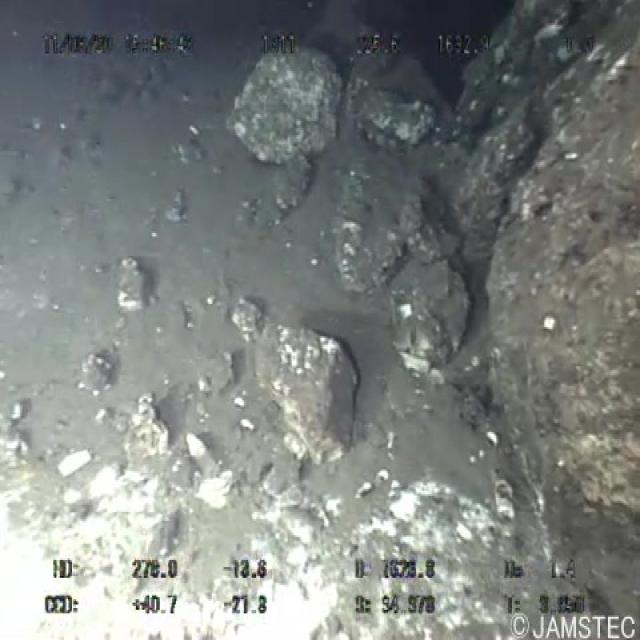plastic: (384, 288, 429, 388), (179, 425, 225, 485)
